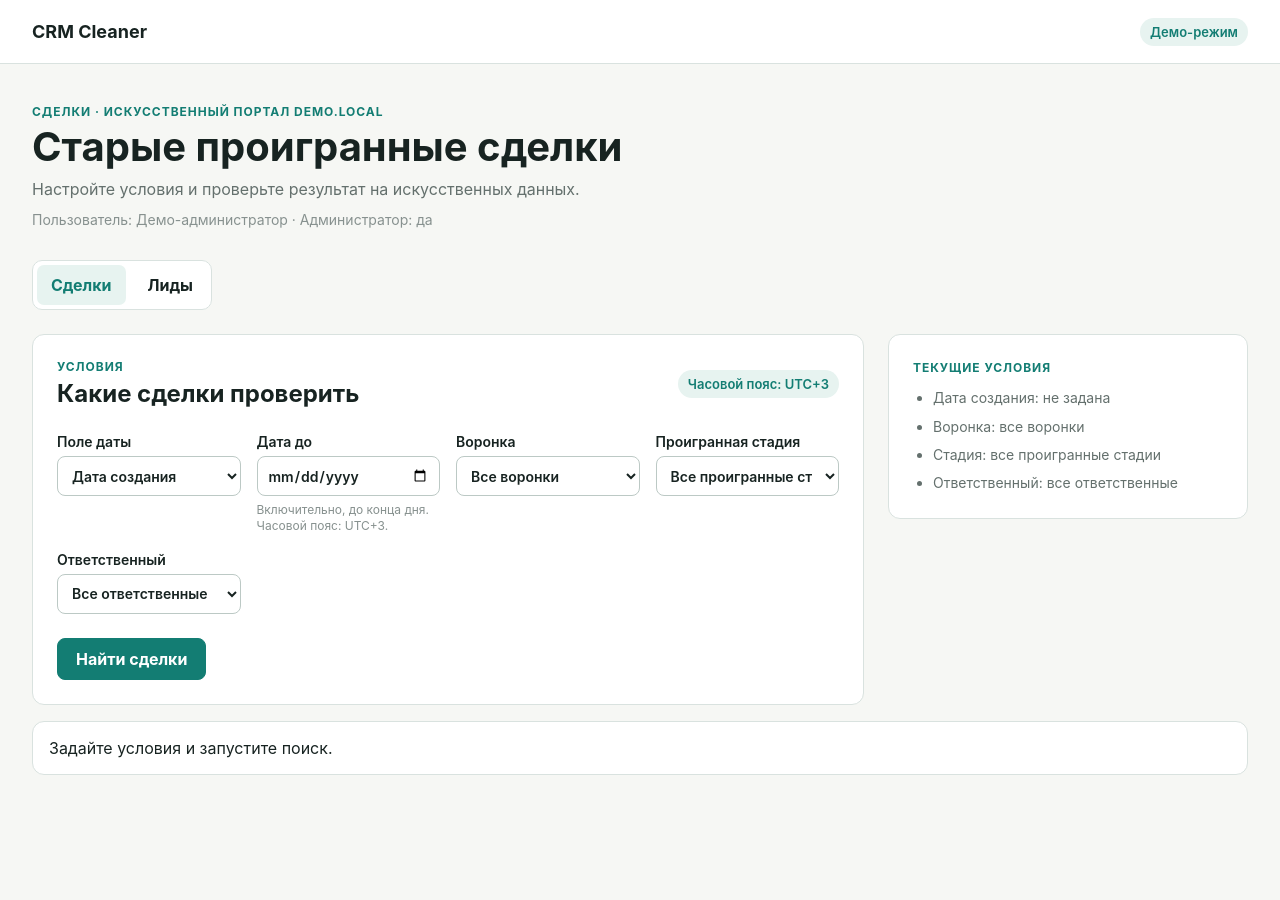
App › связывает готовый результат с исключением без удаления
Type "2026-01-31" into the date field labelled "Дата до" at (348, 476), box [256,456,440,496]
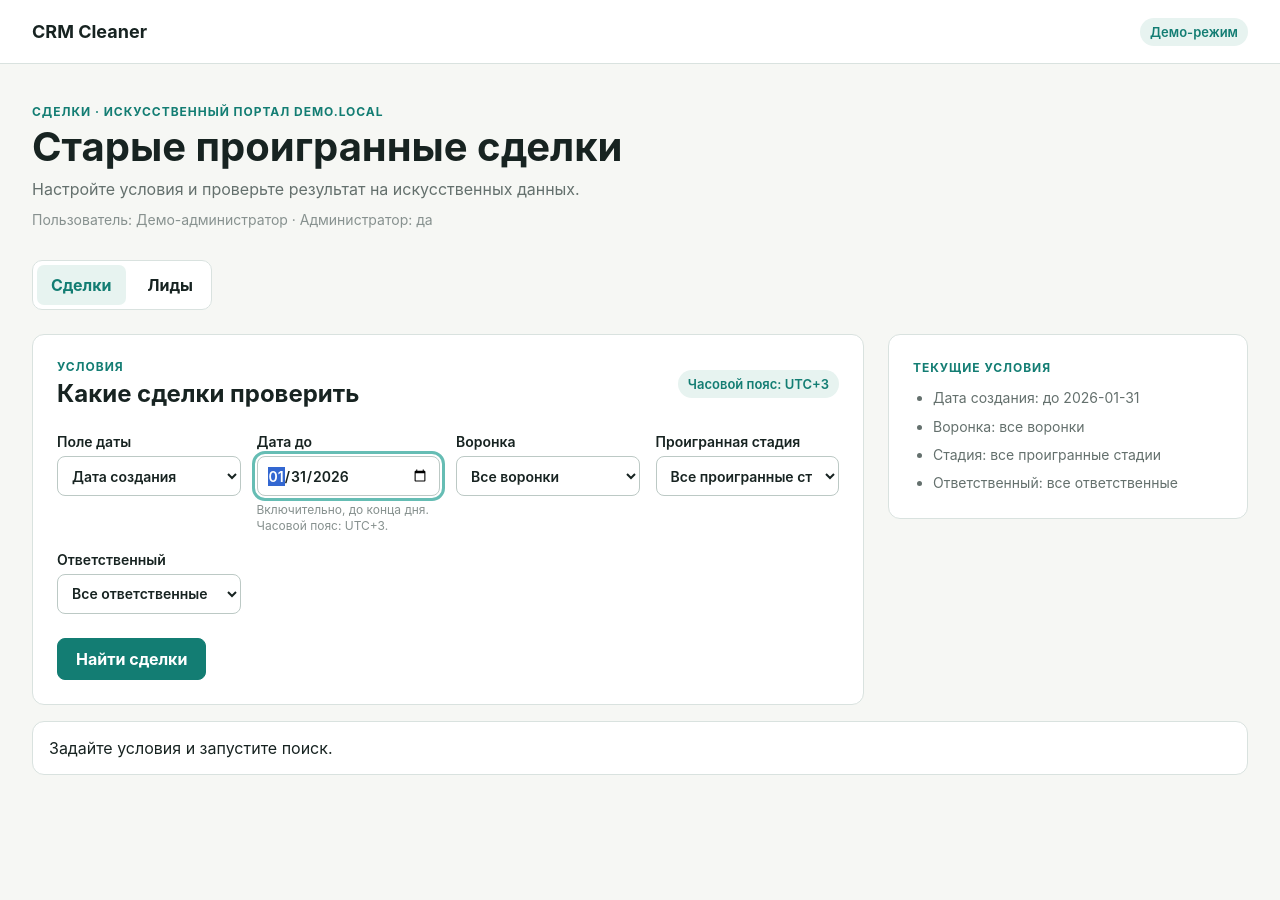
Click the button "Найти сделки" at (132, 659), box [57,638,206,680]
(page scrolled)
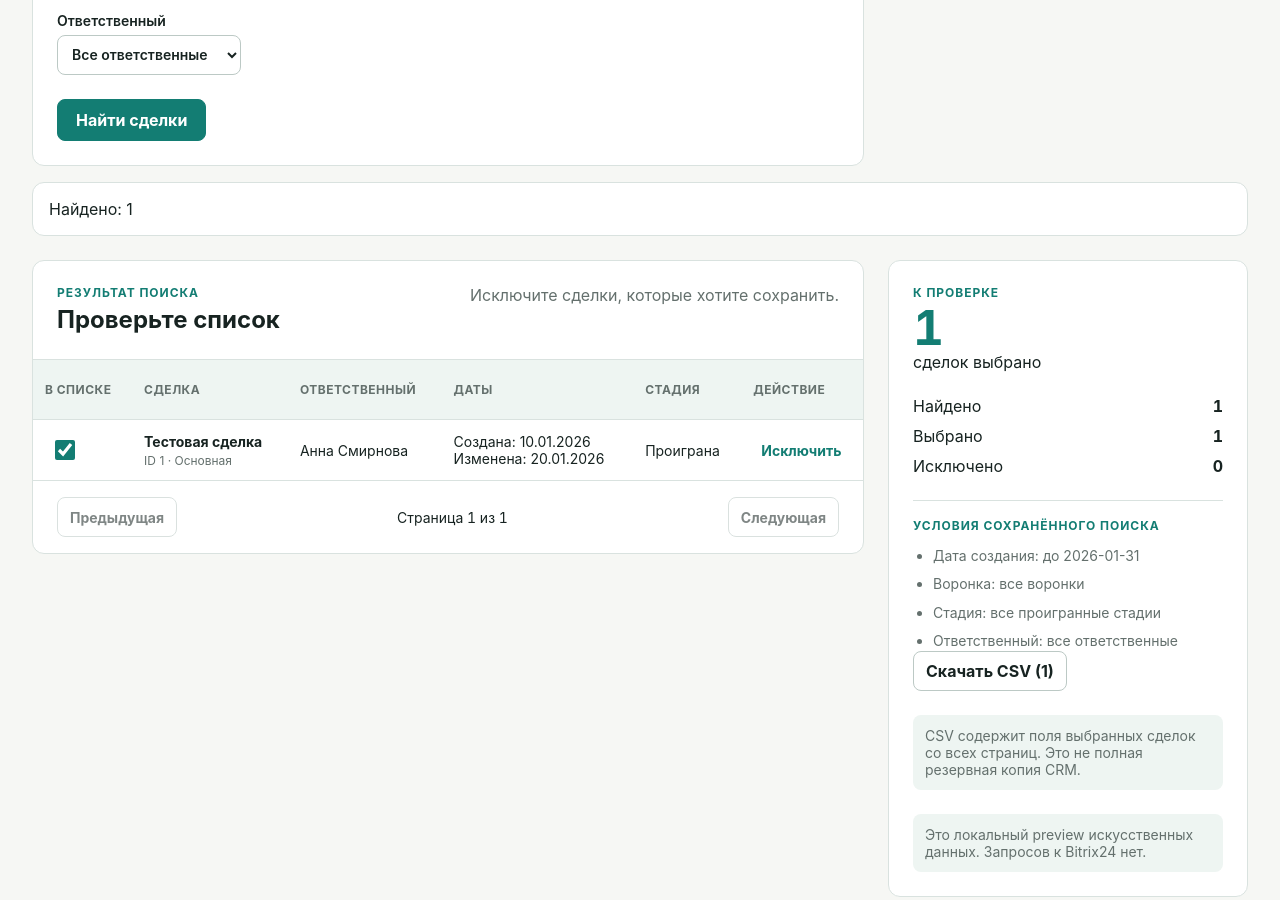
Click the button with aria-label "Исключить Тестовая сделка" at (801, 450), box [753,430,849,470]
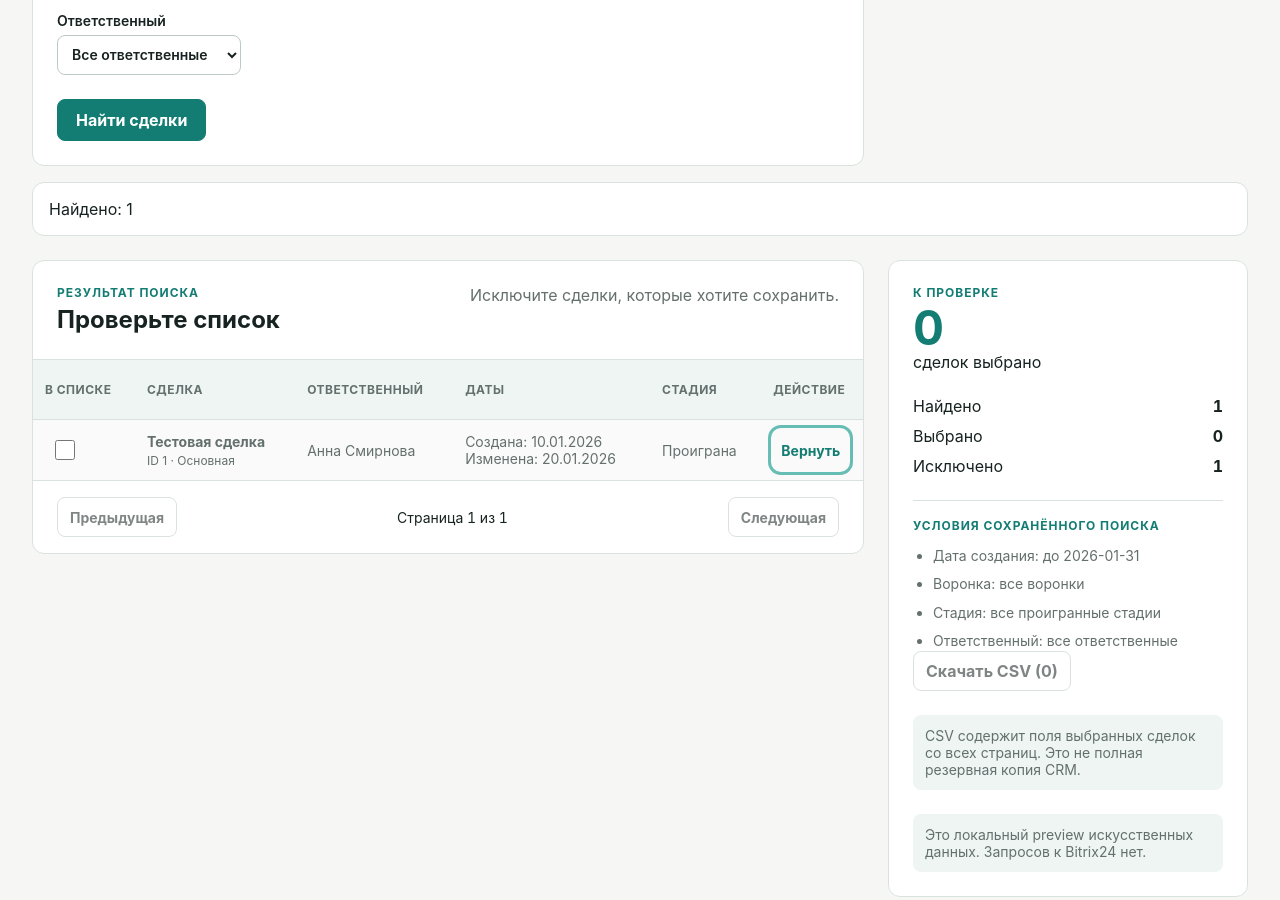
Result: the element "Исключено 1" is shown at [913,456,1223,476]
Result: the button with aria-label "Вернуть Тестовая сделка" is shown at [773,430,848,470]
